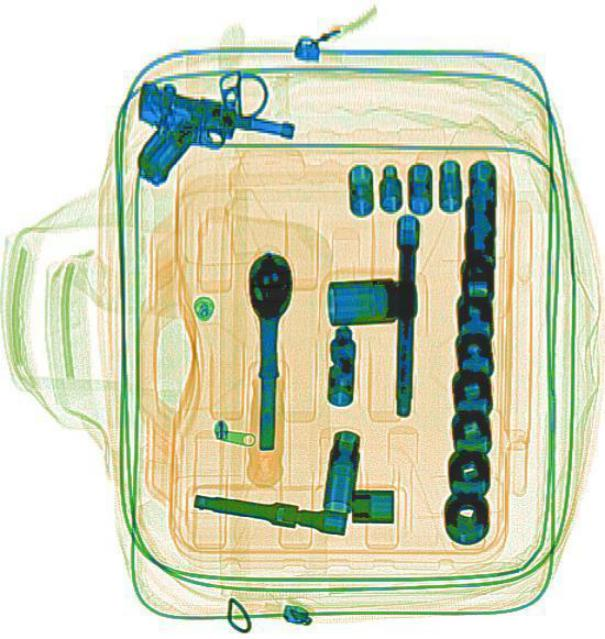Gun: (116, 77, 296, 214)
